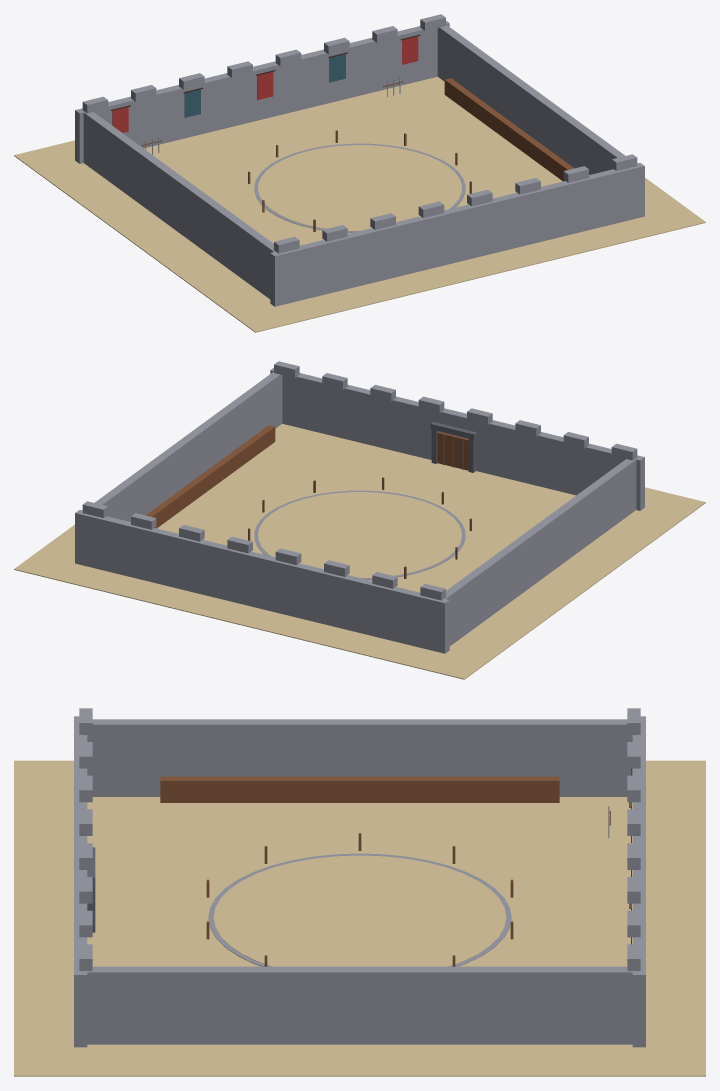
Rendered from trial_arena.glb.
The picture shows the model from 3 angles, top to bottom: view 1: azimuth 30°, elevation 25°; view 2: azimuth 150°, elevation 25°; view 3: azimuth 270°, elevation 25°; orthographic projection. The views are drawn at different scales.
Parts seen in each view (by area): view 1: floor, wall.001, wall, ring_inner, wall.002, wall.003, seat.005, ring; view 2: floor, wall, wall.001, ring_inner, wall.002, wall.003, seat.005, ring, gate; view 3: floor, wall.003, wall.002, ring_inner, seat.002, wall, wall.001, ring.
Part boxes in pixels (x1,y1,x2,y2): floor: (14,76,705,332); wall.001: (270,163,644,306); wall: (75,21,449,163); ring_inner: (258,145,461,231); wall.002: (82,110,276,299); wall.003: (437,24,625,174); seat.005: (444,78,574,181); ring: (254,143,465,232); floor: (14,423,705,679); wall: (75,510,449,653); wall.001: (270,368,644,510); ring_inner: (258,492,461,578); wall.002: (444,457,637,646); wall.003: (94,371,282,521); seat.005: (145,425,275,528); ring: (254,490,465,579); gate: (437,432,468,470); floor: (14,760,705,1076); wall.003: (80,966,639,1044); wall.002: (87,719,632,796); ring_inner: (213,855,506,966); seat.002: (160,776,559,802); wall: (632,716,645,1047); wall.001: (74,716,87,1047); ring: (208,853,511,966).
Size of the model in its own units: 56 by 7.1 by 52.
